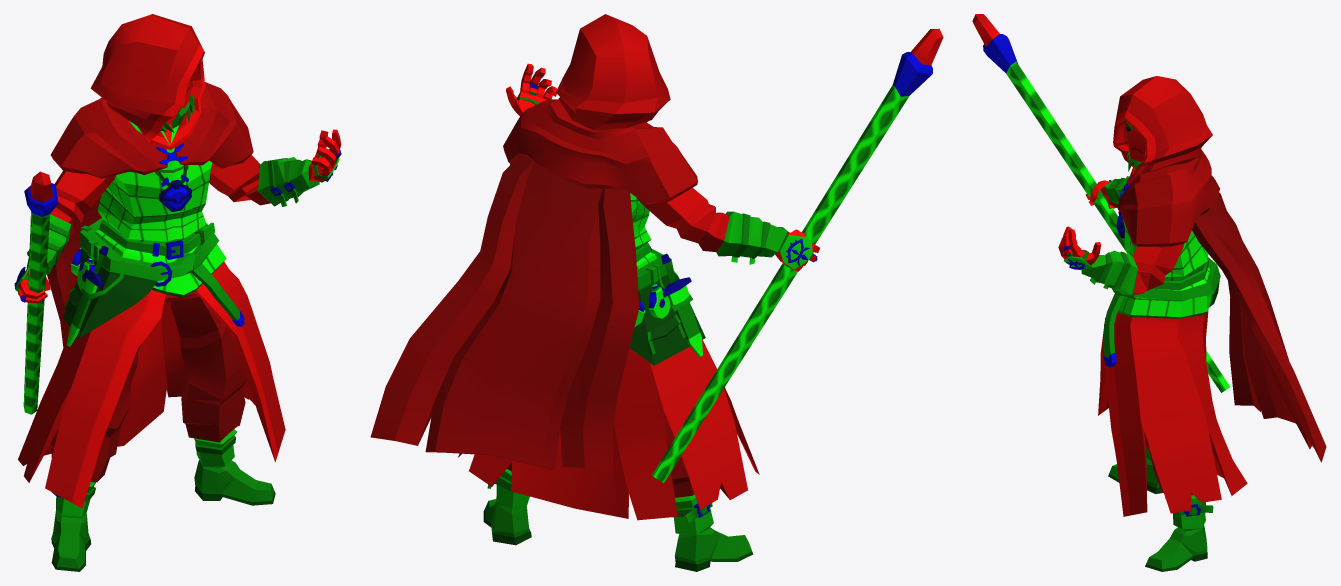
The model's file is M_Warlock_prePosed.fbx.
The picture shows the model from 3 angles, left to right: view 1: azimuth 30°, elevation 25°; view 2: azimuth 150°, elevation 25°; view 3: azimuth 270°, elevation 25°; orthographic projection. The views are drawn at different scales.
Visible parts, largest first — view 1: M_Warlock_prePosed; view 2: M_Warlock_prePosed; view 3: M_Warlock_prePosed.
Part boxes in pixels (x1,y1,x2,y2): M_Warlock_prePosed: (14, 14, 341, 571); M_Warlock_prePosed: (370, 14, 943, 571); M_Warlock_prePosed: (972, 14, 1326, 571).
Size of the model in its own units: 154 by 207 by 150.
